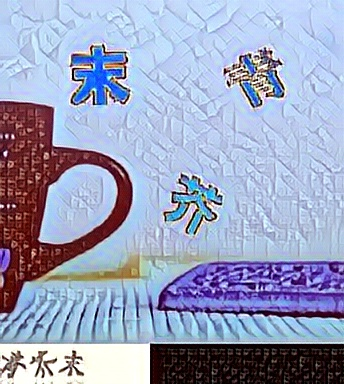BDE6: (159, 169, 223, 235)
C4A9: (67, 42, 131, 108)
C7E0: (222, 46, 286, 112)
